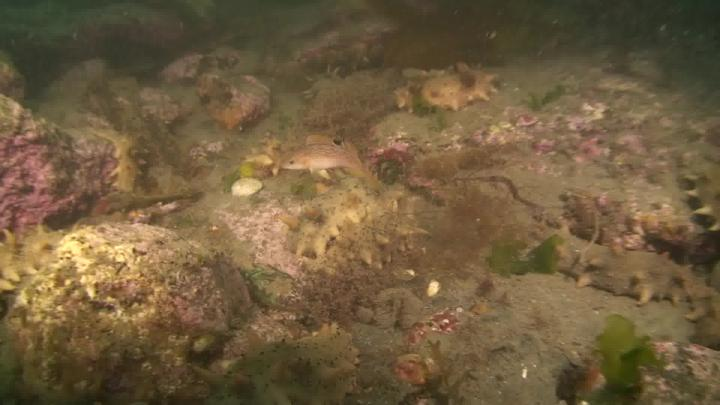holothurian: (192, 322, 361, 405), (541, 227, 713, 308), (281, 176, 388, 256), (331, 207, 418, 270), (1, 229, 65, 296), (412, 65, 495, 108), (101, 125, 149, 195), (677, 163, 720, 229)
scallop: (231, 177, 265, 199), (394, 271, 417, 282), (429, 282, 440, 297)
